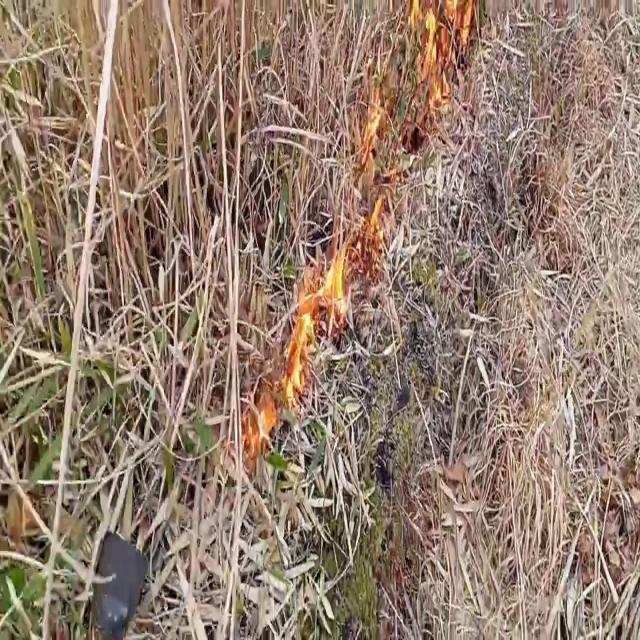Fire: (286, 102, 385, 421)
